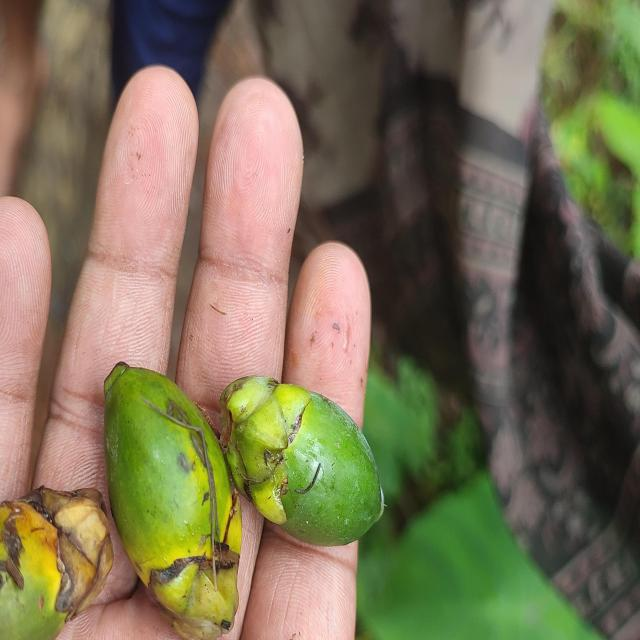damaged: (102, 364, 239, 640), (223, 380, 385, 550), (0, 490, 120, 640)
